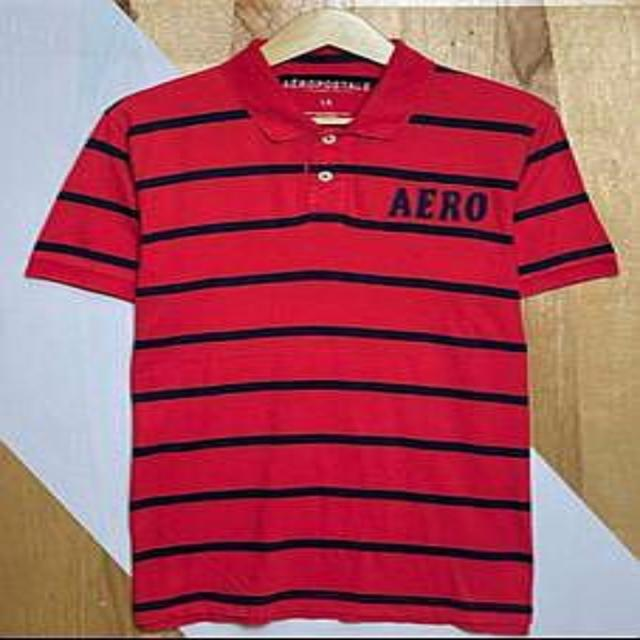T_SHIRT: (14, 26, 636, 640)
